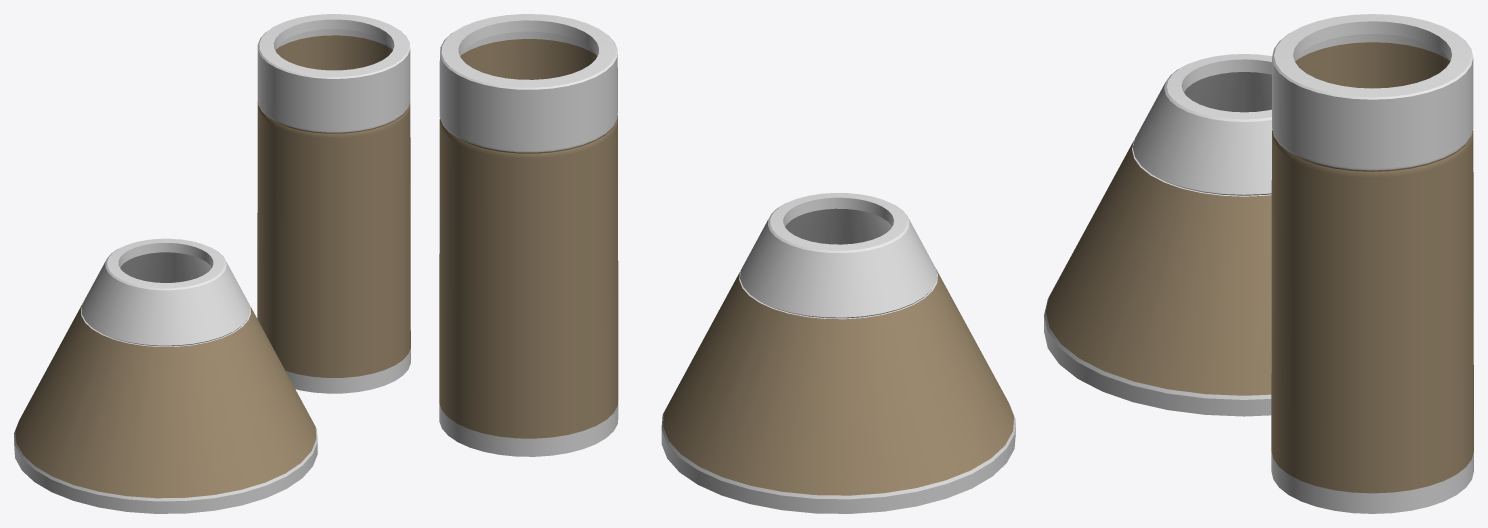
File: cgt_Accessory_44_001.glb
3 views of the same model, side by side, from view 1: azimuth 30°, elevation 25°; view 2: azimuth 150°, elevation 25°; view 3: azimuth 270°, elevation 25° (orthographic). The views are drawn at different scales.
Parts seen in each view (by area): view 1: cgt_Accessory_44_001; view 2: cgt_Accessory_44_001; view 3: cgt_Accessory_44_001.
Boxes of the visible parts, box(x1,y1,x2,y2) form: cgt_Accessory_44_001: box(14, 14, 410, 513); cgt_Accessory_44_001: box(439, 14, 1015, 513); cgt_Accessory_44_001: box(1044, 14, 1473, 513).
Bounding box in the file's own units: 0.2814 × 0.2048 × 0.1917.
